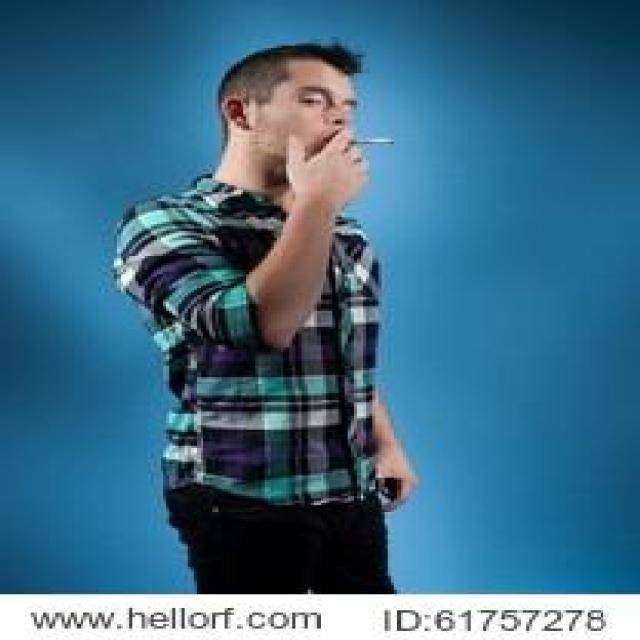Сигарета: (343, 137, 399, 144)
Тело: (121, 44, 417, 596)
